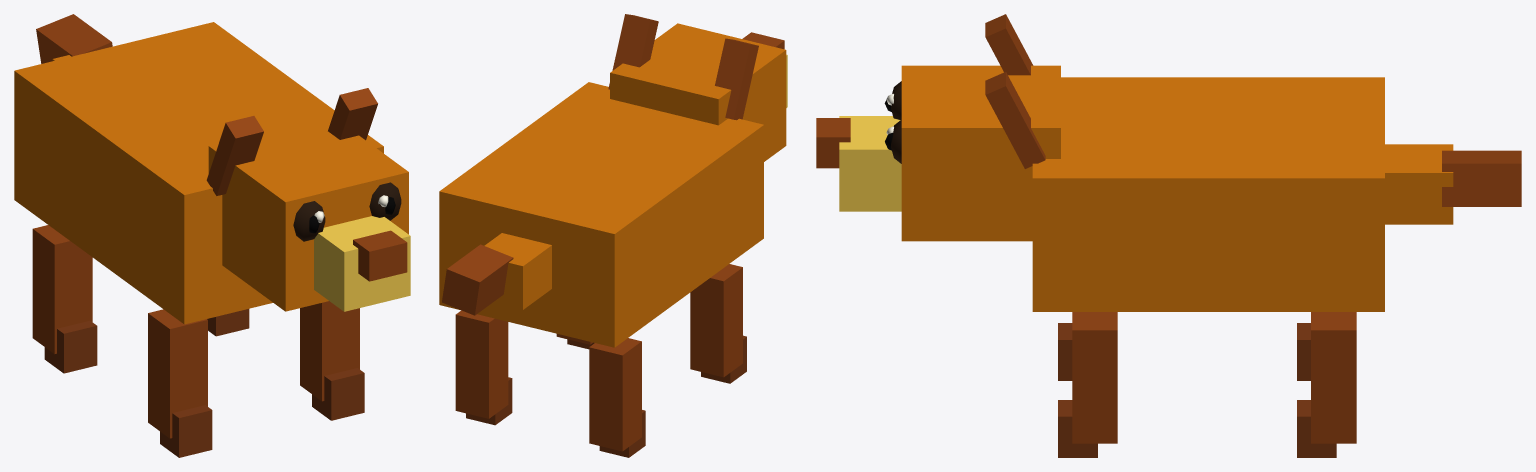
Rendered from RescueHoundA.glb.
3 renders of one model, left to right at view 1: azimuth 30°, elevation 25°; view 2: azimuth 150°, elevation 25°; view 3: azimuth 270°, elevation 25°, orthographic. The views are drawn at different scales.
Parts seen in each view (by area): view 1: RescueHoundBody; view 2: RescueHoundBody; view 3: RescueHoundBody.
Boxes of the visible parts, x1,y1,x2,y2 form: RescueHoundBody: (14,14,410,457); RescueHoundBody: (439,14,787,457); RescueHoundBody: (816,14,1521,457).
Bounding box in the file's own units: 0.42 × 0.7007 × 1.24.
